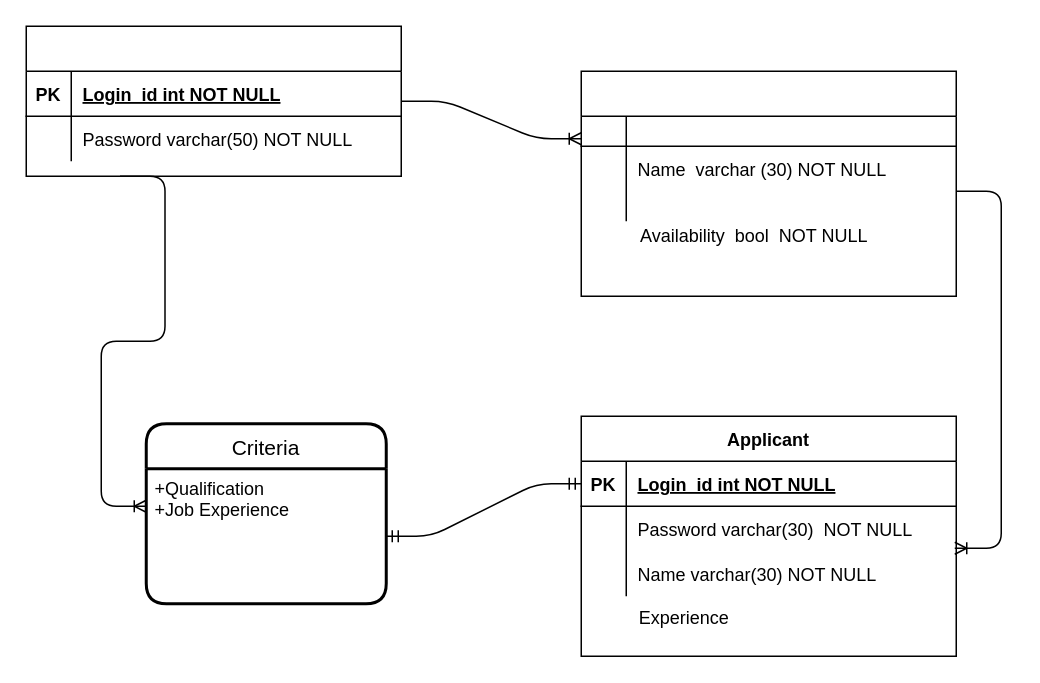
Some shapes in this 1040 by 683 pixel diagram are drawn without their labels. Each missing label, with the box of its shape:
Admin: (25, 25, 401, 176)
Interviewer: (580, 70, 956, 296)
